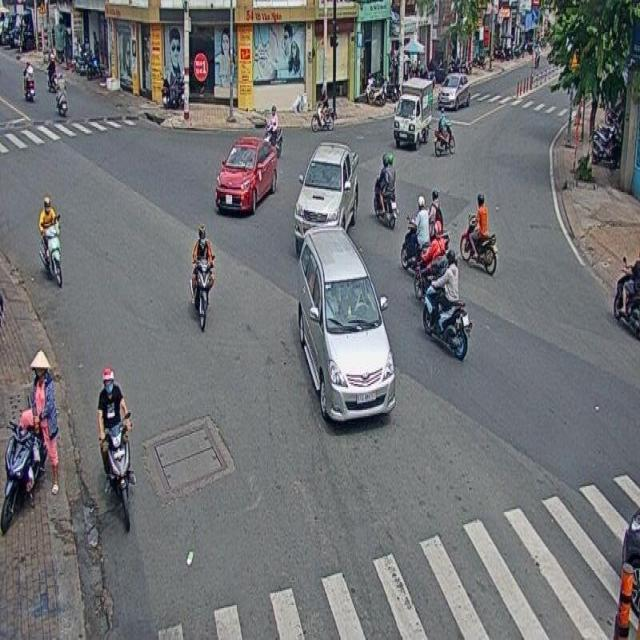car: (297, 224, 396, 422), (294, 142, 358, 238), (215, 137, 276, 213)
motorcycle: (97, 368, 135, 530), (422, 250, 468, 360), (459, 192, 497, 274), (190, 226, 215, 332), (38, 195, 64, 288), (372, 152, 398, 232), (434, 105, 455, 156)
truck: (392, 76, 433, 150)
